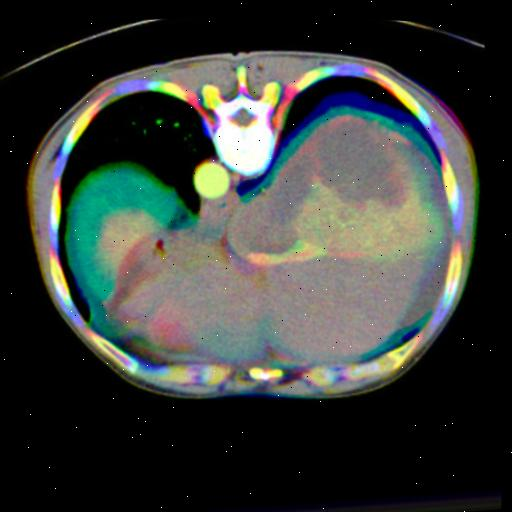Tumor: (299, 112, 407, 204), (227, 167, 310, 253)
